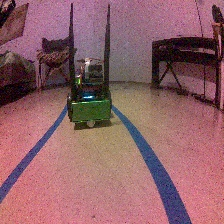rob: (66, 57, 111, 127)
